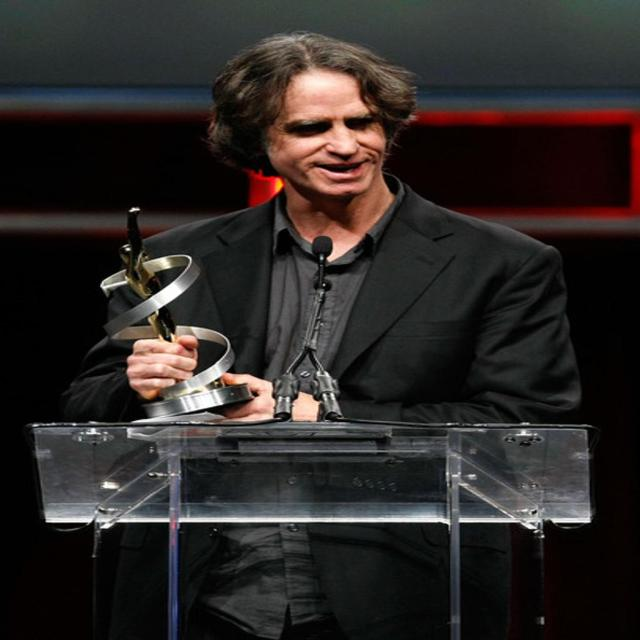Face: (268, 59, 409, 204)
